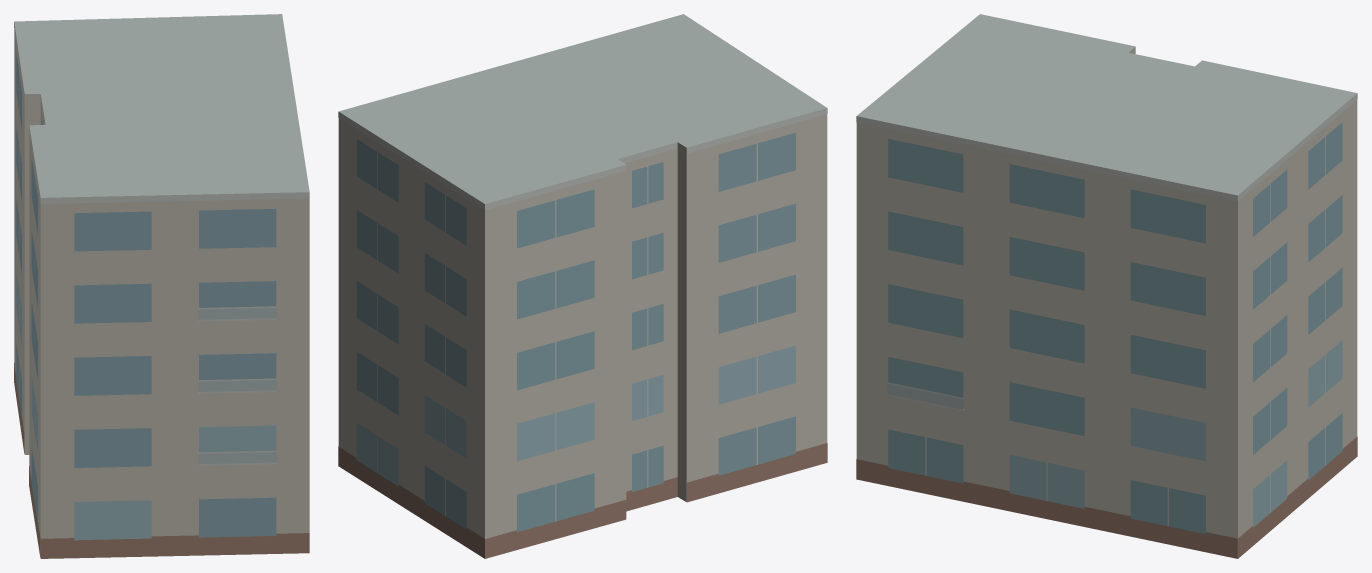
The model's file is survey-upis-32886613.glb.
The picture shows the model from 3 angles, left to right: view 1: azimuth 30°, elevation 25°; view 2: azimuth 150°, elevation 25°; view 3: azimuth 270°, elevation 25°; orthographic projection. The views are drawn at different scales.
Visible parts, largest first — view 1: survey-upis-32886613.tmp; view 2: survey-upis-32886613.tmp; view 3: survey-upis-32886613.tmp.
Boxes of the visible parts, x1=… form: survey-upis-32886613.tmp: x1=14, y1=14, x2=309, y2=558; survey-upis-32886613.tmp: x1=338, y1=14, x2=827, y2=558; survey-upis-32886613.tmp: x1=856, y1=14, x2=1357, y2=558.
Size of the model in its own units: 15.22 by 14.2 by 17.75.
